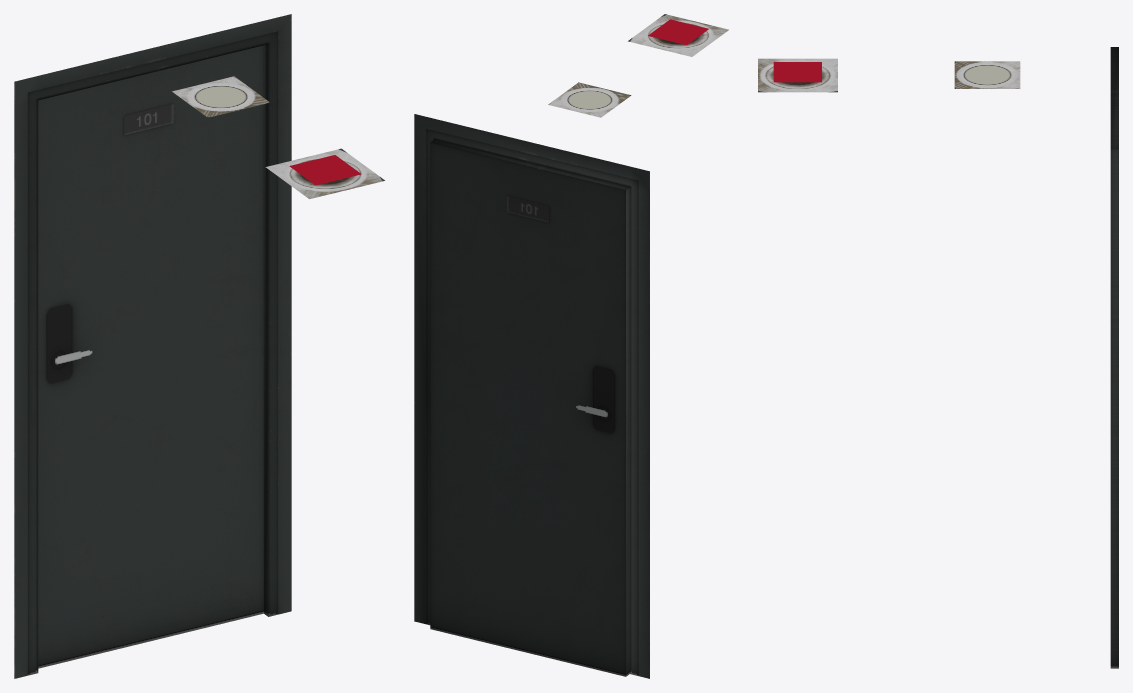
Rendered from Door_Dormitory_Plane.fbx.
The picture shows the model from 3 angles, left to right: view 1: azimuth 30°, elevation 25°; view 2: azimuth 150°, elevation 25°; view 3: azimuth 270°, elevation 25°; orthographic projection. The views are drawn at different scales.
Visible parts, largest first — view 1: doorPlane_low, lampPlane_low, airHole02_low, airHole_low.001; view 2: doorPlane_low, lampPlane_low, airHole02_low, airHole_low.001; view 3: doorPlane_low, lampPlane_low, airHole02_low, airHole_low.001.
Part boxes in pixels (x1,y1,x2,y2): doorPlane_low: [14, 14, 291, 678]; lampPlane_low: [172, 76, 269, 117]; airHole02_low: [265, 148, 384, 199]; airHole_low.001: [289, 155, 361, 185]; doorPlane_low: [414, 114, 649, 678]; lampPlane_low: [548, 82, 631, 117]; airHole02_low: [628, 14, 728, 56]; airHole_low.001: [648, 19, 708, 45]; doorPlane_low: [1110, 47, 1118, 668]; lampPlane_low: [954, 61, 1020, 88]; airHole02_low: [758, 58, 837, 92]; airHole_low.001: [773, 62, 821, 82].
Size of the model in its own units: 102 by 211 by 127.
